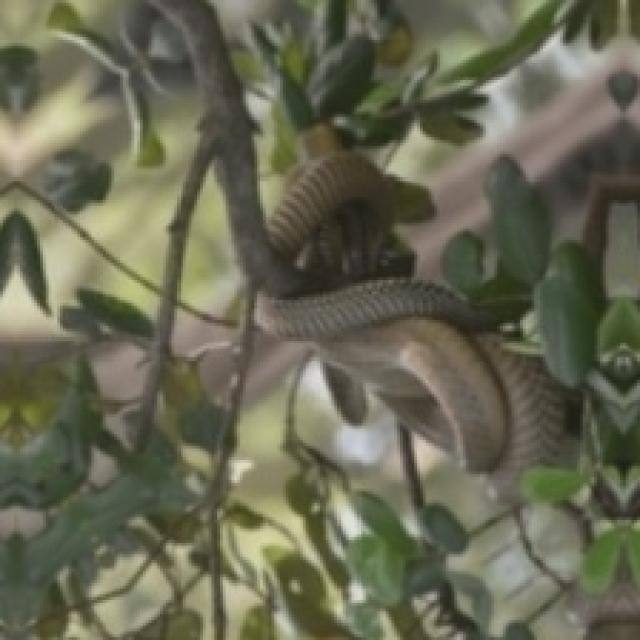king cobra: (257, 277, 563, 500)
